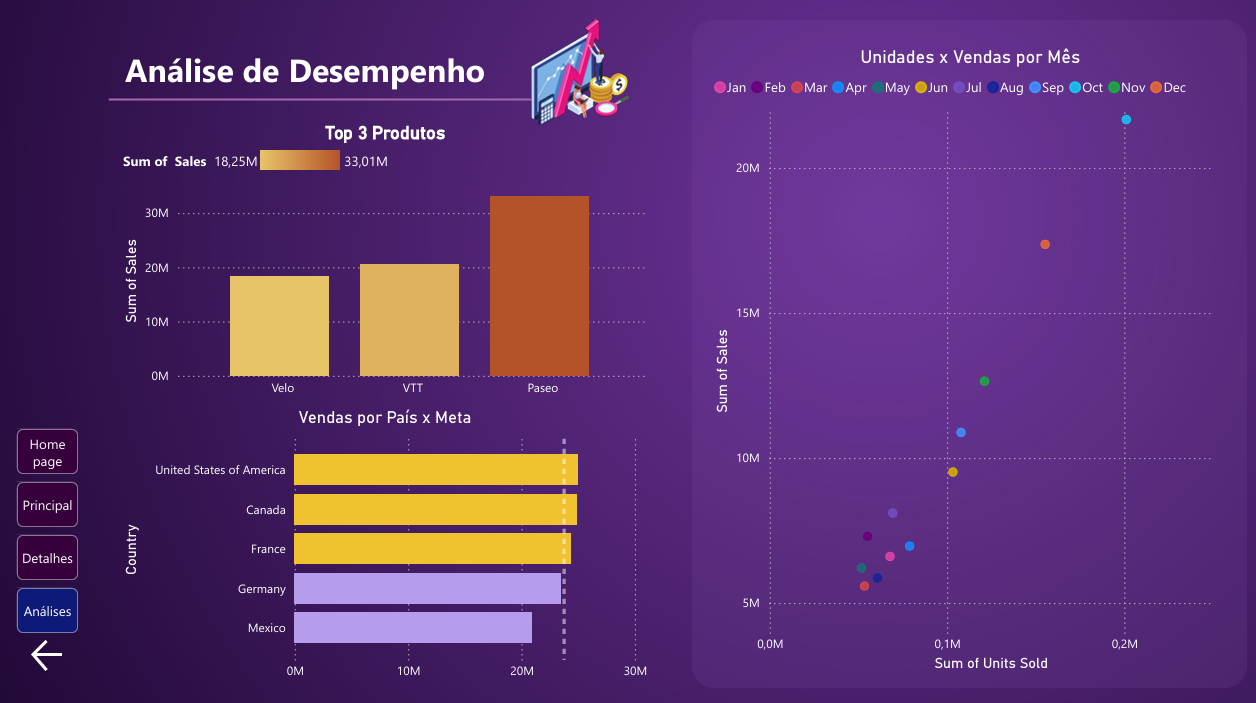

This screenshot's page, from the dashboard's own definition file:
{"tool":"powerbi","page":{"name":"Análises","canvas":[1280,720],"ordinal":3},"visuals":[{"type":"image","title":"Fundo-Roxo","box":[0,0,1269.8,719.9],"z":0},{"type":"shape","box":[116.4,87.2,442.8,37],"z":0,"group":"g1"},{"type":"actionButton","box":[34,641.2,46.6,41],"z":0,"group":"g3"},{"type":"group","id":"g1","title":"Análise de Desempenho","box":[116.4,20.2,535.5,117.1],"z":1000},{"type":"shape","title":"Fundo-D","box":[698.6,26.5,554.9,667.9],"z":1000,"group":"g2"},{"type":"textbox","box":[127.6,48.5,400.7,62.3],"z":1000,"group":"g1"},{"type":"pageNavigator","box":[23.7,435,61.4,205],"z":1000,"group":"g3"},{"type":"scatterChart","title":"Unidades x Vendas por Mês","fields":{"X":["Sum(financials.Units Sold)"],"Y":["financials. Sales"],"Category":["financials.Mês Abrev","financials.Date.Variation.Hierarquia de datas.Mês"],"Series":["financials.Mês Abrev"]},"box":[715.7,52.2,523.7,629.7],"z":1500,"group":"g2"},{"type":"image","box":[524.6,20.2,127.2,117.1],"z":2000,"group":"g1"},{"type":"columnChart","title":"Top 3 Produtos","fields":{"Category":["financials.Product"],"Y":["Sum(financials. Sales)"]},"box":[124.6,128,533.9,283.9],"z":3000},{"type":"clusteredBarChart","title":"Vendas por País x Meta","fields":{"Category":["financials.Continentes","financials.Country"],"Y":["Sum(financials. Sales)"]},"box":[124.6,412.5,533.9,282.5],"z":4000},{"type":"group","id":"g2","title":"Dispersão Unid. x Vendas","box":[698.6,26.5,554.9,667.9],"z":5000},{"type":"group","id":"g3","title":"Menu","box":[23.7,435,61.4,247.1],"z":5500}]}

Visuals, with their boxes in screenshot pixels (x1, y1, x2, y2), scaled from the page's 1280x720 canvas onto the 1256x703 screenshot:
"Fundo-Roxo" image: l=0, t=0, r=1246, b=702
shape: l=114, t=85, r=549, b=121
actionButton: l=33, t=626, r=79, b=666
"Análise de Desempenho" group: l=114, t=20, r=640, b=134
"Fundo-D" shape: l=686, t=26, r=1230, b=678
textbox: l=125, t=47, r=518, b=108
pageNavigator: l=23, t=425, r=84, b=625
"Unidades x Vendas por Mês" scatterChart: l=702, t=51, r=1216, b=666
image: l=515, t=20, r=640, b=134
"Top 3 Produtos" columnChart: l=122, t=125, r=646, b=402
"Vendas por País x Meta" clusteredBarChart: l=122, t=403, r=646, b=679
"Dispersão Unid. x Vendas" group: l=686, t=26, r=1230, b=678
"Menu" group: l=23, t=425, r=84, b=666
